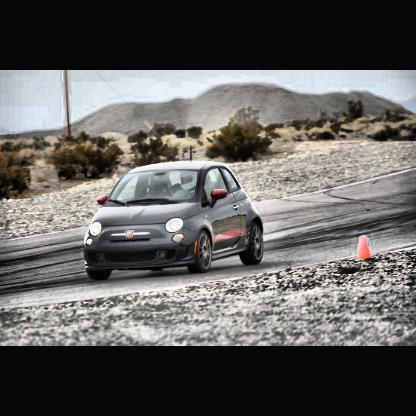FIAT 500 Abarth 2012: (85, 146, 265, 282)
